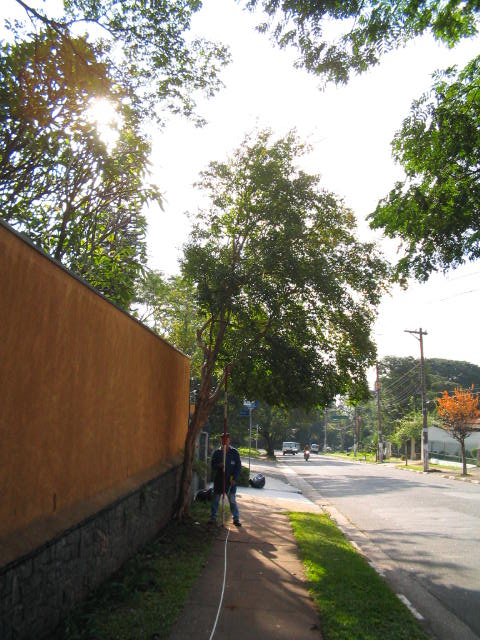crown: (172, 120, 395, 416)
stem: (170, 393, 215, 525)
stick: (216, 363, 234, 536)
tree: (170, 117, 397, 526)
